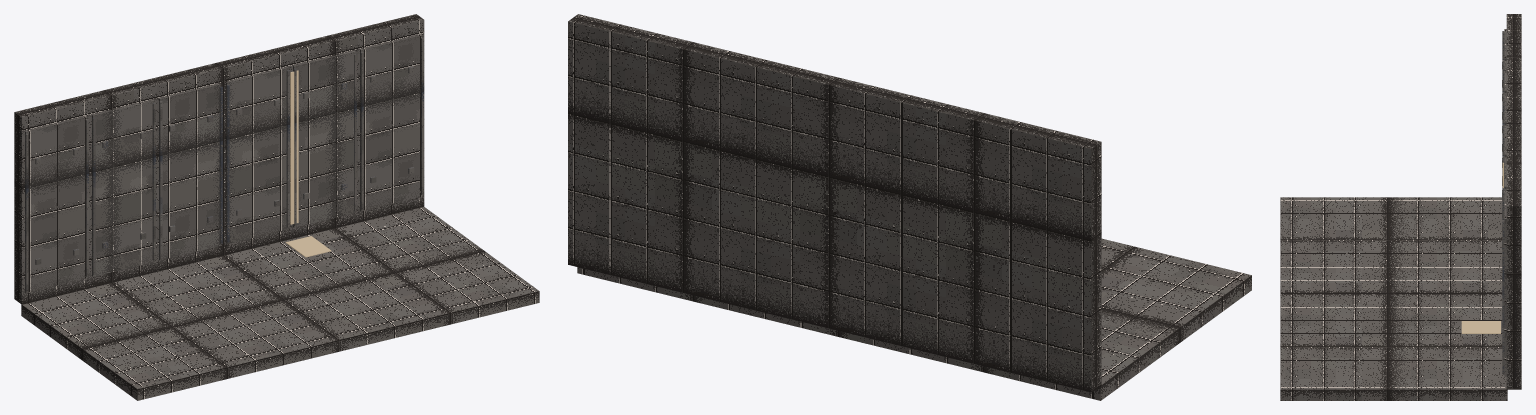
File: secret_light_leak.glb
3 views of the same model, side by side, from view 1: azimuth 30°, elevation 25°; view 2: azimuth 150°, elevation 25°; view 3: azimuth 270°, elevation 25° (orthographic). The views are drawn at different scales.
Parts seen in each view (by area): view 1: secret_light_leak; view 2: secret_light_leak; view 3: secret_light_leak.
Part boxes in pixels (<box>): secret_light_leak: <box>14,14,539,400</box>; secret_light_leak: <box>568,14,1251,400</box>; secret_light_leak: <box>1280,14,1521,400</box>.
Bounding box in the file's own units: 7.2 × 3.4 × 3.82.
4 materials, 3 textured.
